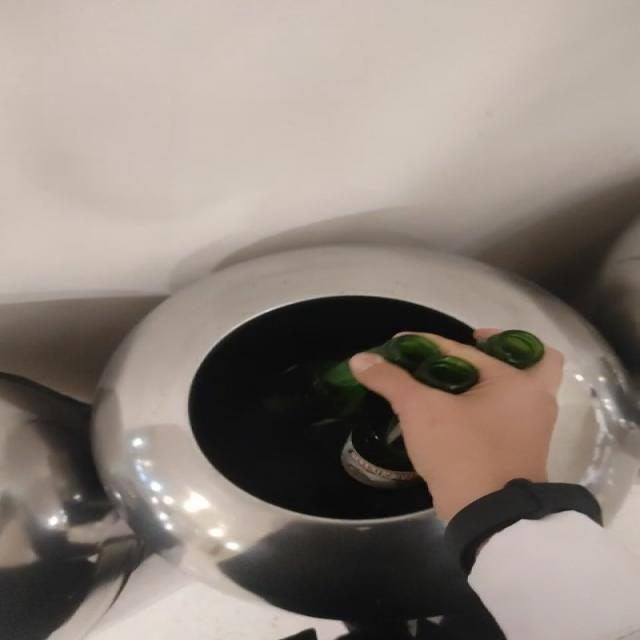glass: (263, 359, 420, 489), (364, 334, 479, 394), (477, 330, 545, 369)
